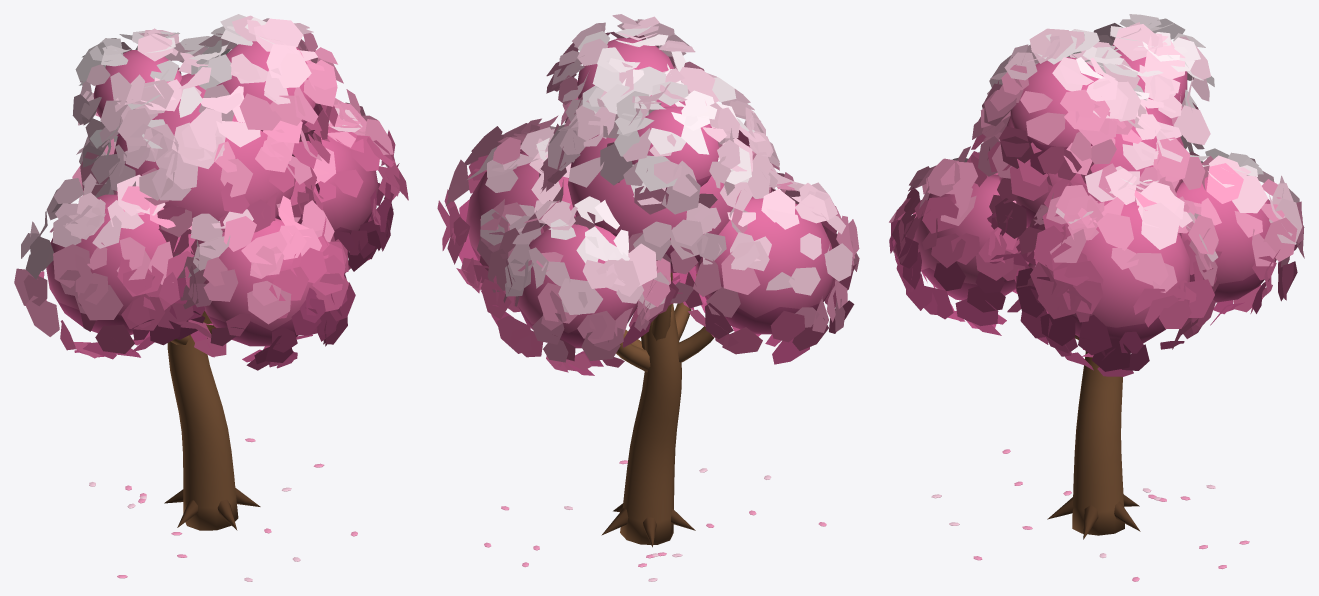
File: TreeBlossom.glb
The picture shows the model from 3 angles, left to right: view 1: azimuth 30°, elevation 25°; view 2: azimuth 150°, elevation 25°; view 3: azimuth 270°, elevation 25°; orthographic projection. The views are drawn at different scales.
Parts seen in each view (by area): view 1: Canopy, Body; view 2: Canopy, Body; view 3: Canopy, Body.
Boxes of the visible parts, box(x1,y1,x2,y2) form: Canopy: box(14, 14, 408, 370); Body: box(89, 311, 357, 581); Canopy: box(437, 14, 859, 375); Body: box(484, 272, 826, 581); Canopy: box(889, 14, 1304, 376); Body: box(931, 335, 1249, 581).
Size of the model in its own units: 11.18 by 14.14 by 10.51.
2 materials, 2 textured.
